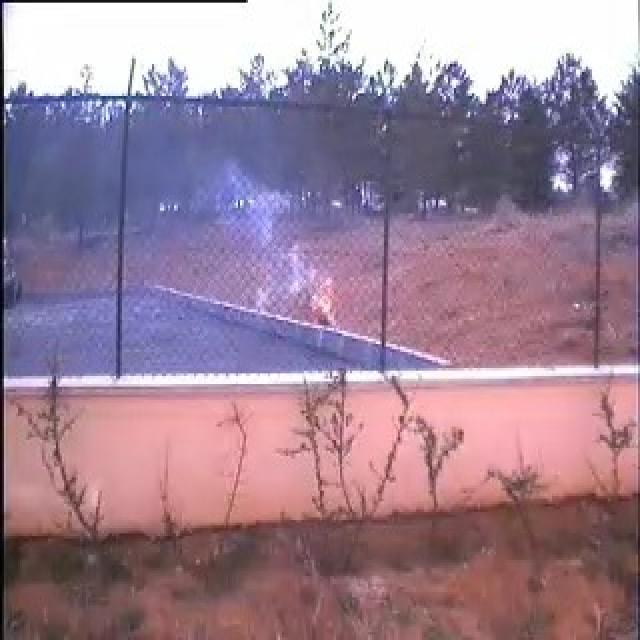smoke: (132, 159, 312, 346)
